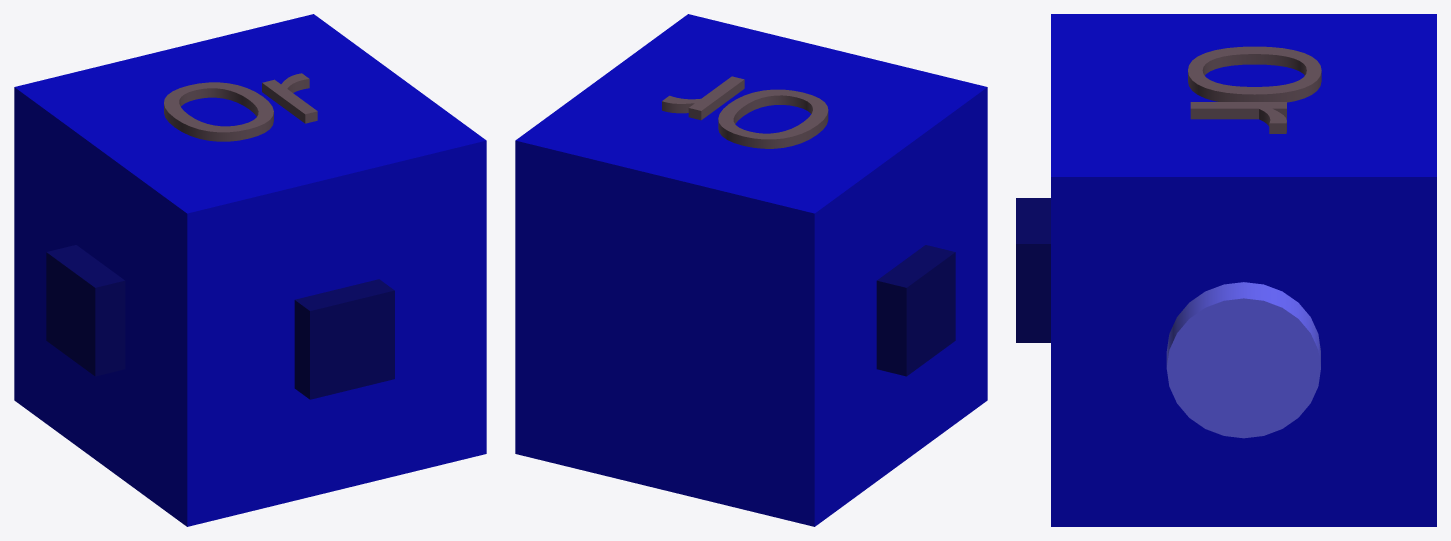
Rendered from Or_Logic.dae.
3 views of the same model, side by side, from view 1: azimuth 30°, elevation 25°; view 2: azimuth 150°, elevation 25°; view 3: azimuth 270°, elevation 25° (orthographic). The views are drawn at different scales.
Parts seen in each view (by area): view 1: SketchUp (×3), Or (×3); view 2: SketchUp (×2), Or (×3); view 3: SketchUp (×3), Or (×3).
Boxes of the visible parts, left/top/right/bottom form: SketchUp (×3): left=14, top=14, right=486, bottom=526; Or (×3): left=164, top=73, right=317, bottom=141; SketchUp (×2): left=515, top=14, right=987, bottom=526; Or (×3): left=662, top=76, right=828, bottom=148; SketchUp (×3): left=1016, top=14, right=1436, bottom=526; Or (×3): left=1188, top=46, right=1321, bottom=133.
Size of the model in its own units: 47.24 by 42.91 by 40.55.
